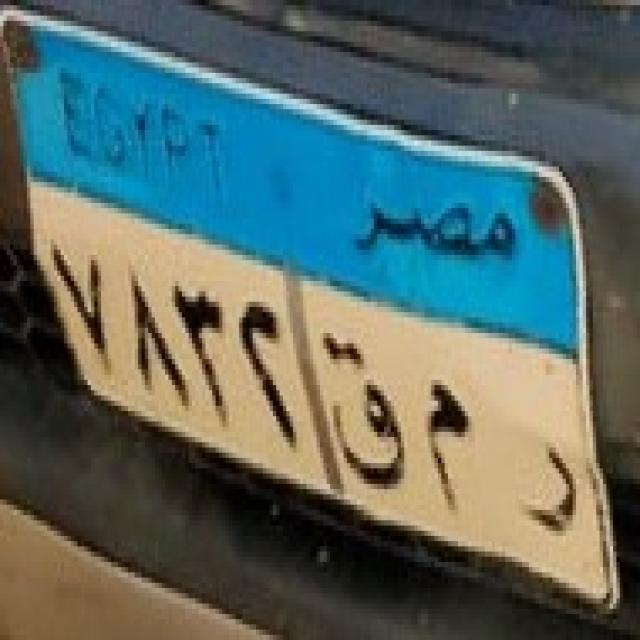2: (238, 284, 302, 453)
3: (176, 272, 238, 426)
7: (54, 230, 128, 386)
8: (122, 254, 184, 416)
Meem: (418, 370, 480, 518)
R: (516, 428, 590, 544)
Taa: (320, 321, 416, 497)
